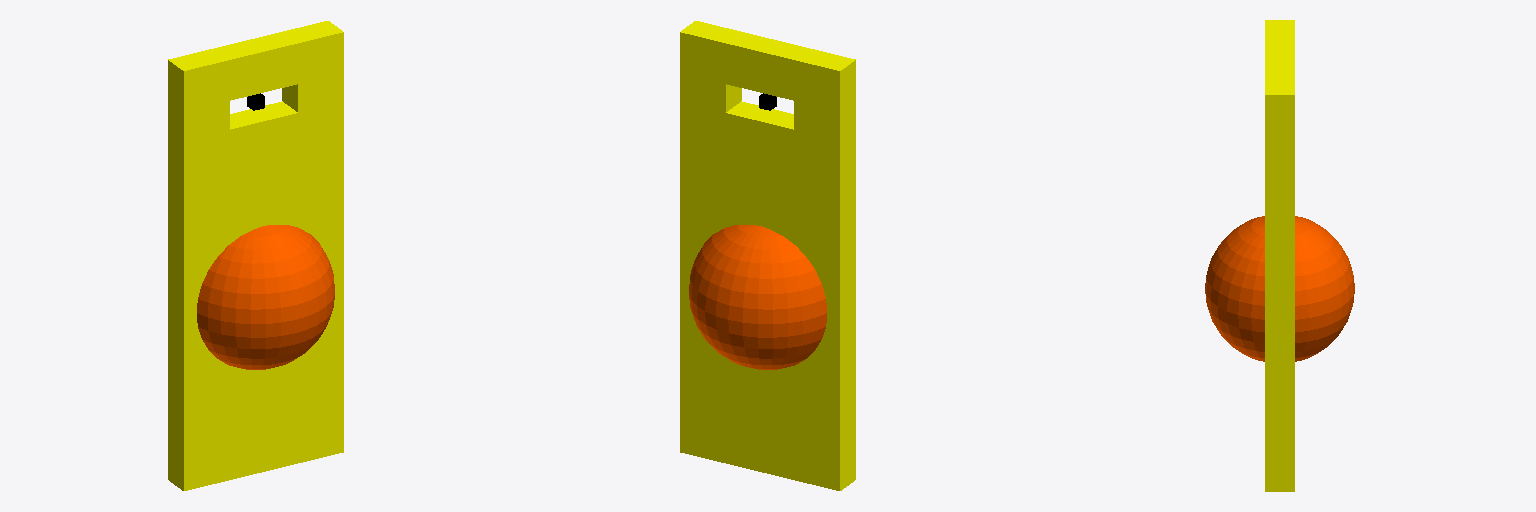
robot.urdf — box_dummy:
<?xml version="1.0"?>
<robot name="box_dummy">
  <material name="black">
    <color rgba="0.0 0.0 0.0 1.0"/>
  </material>
  <material name="orange">
    <color rgba="1.0 0.4 0.0 1.0"/>
  </material>
  <material name="transparency">
    <color rgba="0 0 0 0"/>
  </material>
  
  
  
  <!-- set base pose -->
  <link name="_base">
    <visual>
        <geometry>
            <sphere radius="0.03"/>
        </geometry>
        <origin rpy="0 0 0" xyz="0 0 0"/>
        <material name="orange"/>
    </visual>
  </link>

  <joint name="base_point" type="fixed">
    <origin rpy="0 0 0" xyz="0 0 0"/>
    <parent link="_base"/>
    <child link="base"/>
  </joint>





  <link name="base">
    <visual>
        <geometry>
            <box size="0.07 0.012 0.1460"/>
        </geometry>
        <origin rpy="0 0 0" xyz="0 0 0"/>
        <material name="yellow">
            <color rgba="1 1 0 1"/>
        </material>
    </visual>
    <collision>
        <geometry>
          <box size="0.07 0.012 0.1460"/>
        </geometry>
        <origin rpy="0 0 0" xyz="0 0 0"/>
    </collision>
    <inertial>
      <origin rpy="0 0 0" xyz="0 0 0"/>
       <mass value="0.01"/>
       <inertia ixx="1" ixy="0" ixz="0" iyy="1" iyz="0" izz="1"/>     
    </inertial>
    <surface>
        <friction>
          <ode>
            <mu>100000.0</mu>
            <mu2>100000.0</mu2>
          </ode>
        </friction>
        <contact>
          <ode>
            <min_depth>0.003</min_depth>
          </ode>
        </contact>
      </surface>
  </link>
  <!-- gripper contact point -->
  <link name="tool">
    <inertial>
      <mass value="0.0"/>
      <origin rpy="0 0 0" xyz="0.0 0.0 0.0"/>
      <inertia ixx="0.0" ixy="0.0" ixz="0.0" iyy="0.0" iyz="0.0" izz="0.0"/>
    </inertial>
    <visual>
      <geometry>
        <box size="0.005 0.005 0.005"/>
      </geometry>
      <origin rpy="0 0 0" xyz="0 0 0"/>
       <!-- set contact point color -->
      <material name="transparency"/>
    </visual>
  </link>
  <!-- set gripper contact point -->
  <joint name="hole_point" type="fixed">
    <!-- origin rpy="0 0 0" xyz="0 -0.3 -0.0165" -->
    <origin rpy="0 0 0" xyz="0 0 0.079"/>
    <parent link="base"/>
    <child link="tool"/>
  </joint>

  <link name="left_fillar">
   <visual>
        <geometry>
            <box size="0.02 0.012 0.012"/>
        </geometry>
        <origin rpy="0 0 0" xyz="0.025 0 0.079"/>
        <material name="yellow">
            <color rgba="1 1 0 1"/>
        </material>
    </visual>
    <collision>
        <geometry>
          <box size="0.02 0.012 0.012"/>
        </geometry>
        <origin rpy="0 0 0" xyz="0.025 0 0.079"/>
    </collision>
    <inertial>
      <origin rpy="0 0 0" xyz="0 0 0"/>
       <mass value="0.01"/>
       <inertia ixx="1" ixy="0" ixz="0" iyy="1" iyz="0" izz="1"/>       
    </inertial>
    <surface>
        <friction>
          <ode>
            <mu>100000.0</mu>
            <mu2>100000.0</mu2>
          </ode>
        </friction>
        <contact>
          <ode>
            <min_depth>0.003</min_depth>
          </ode>
        </contact>
      </surface>
  </link>

  

  <joint name="base_to_left_fillar" type="fixed">
    <parent link="base"/>
    <child link="left_fillar"/>
  </joint>

  <link name="right_fillar">
   <visual>
        <geometry>
            <box size="0.02 0.012 0.012"/>
        </geometry>
        <origin rpy="0 0 0" xyz="-0.025 0 0.079"/>
        <material name="yellow">
            <color rgba="1 1 0 1"/>
        </material>
    </visual>
    <collision>
        <geometry>
          <box size="0.02 0.012 0.012"/>
        </geometry>
        <origin rpy="0 0 0" xyz="-0.025 0 0.079"/>
    </collision>
    <inertial>
      <origin rpy="0 0 0" xyz="0 0 0"/>
       <mass value="0.01"/>
       <inertia ixx="1" ixy="0" ixz="0" iyy="1" iyz="0" izz="1"/>       
    </inertial>
    <surface>
        <friction>
          <ode>
            <mu>100000.0</mu>
            <mu2>100000.0</mu2>
          </ode>
        </friction>
        <contact>
          <ode>
            <min_depth>0.003</min_depth>
          </ode>
        </contact>
      </surface>
  </link>

  <joint name="base_to_right_fillar" type="fixed">
    <parent link="base"/>
    <child link="right_fillar"/>
  </joint>

  <link name="top_fillar">
   <visual>
        <geometry>
            <box size="0.07 0.012 0.017"/>
        </geometry>
        <origin rpy="0 0 0" xyz="0 0 0.0935"/>
        <material name="yellow">
            <color rgba="1 1 0 1"/>
        </material>
    </visual>
    <collision>
        <geometry>
         <box size="0.07 0.012 0.017"/>
        </geometry>
        <origin rpy="0 0 0" xyz="0 0 0.0935"/>
    </collision>
    <inertial>
      <origin rpy="0 0 0" xyz="0 0 0"/>
       <mass value="0.01"/>
       <inertia ixx="1" ixy="0" ixz="0" iyy="1" iyz="0" izz="1"/>     
    </inertial>
    <surface>
        <friction>
          <ode>
            <mu>100000.0</mu>
            <mu2>100000.0</mu2>
          </ode>
        </friction>
        <contact>
          <ode>
            <min_depth>0.003</min_depth>
          </ode>
        </contact>
      </surface>
  </link>

  <joint name="base_to_top_fillar" type="fixed">
    <parent link="base"/>
    <child link="top_fillar"/>
  </joint>

</robot>

--- What the picture shows (computed from the rendered views, not written in the file) ---
The picture shows the robot from 3 angles, left to right: view 1: azimuth 30°, elevation 25°; view 2: azimuth 150°, elevation 25°; view 3: azimuth 270°, elevation 25°; orthographic projection.
Robot: box_dummy — 6 links, 5 joints (5 fixed); root link _base; default pose: all joints at 0.
Visible links, largest first — view 1: base, _base, top_fillar, right_fillar, left_fillar; view 2: base, _base, top_fillar, right_fillar, left_fillar; view 3: _base, base, top_fillar, left_fillar.
Boxes of the visible links, x1,y1,x2,y2 form: base: [168, 101, 343, 490]; _base: [197, 225, 334, 369]; top_fillar: [168, 21, 343, 111]; right_fillar: [168, 101, 229, 140]; left_fillar: [282, 73, 343, 112]; base: [680, 101, 855, 490]; _base: [689, 225, 826, 369]; top_fillar: [680, 21, 855, 111]; right_fillar: [794, 101, 855, 140]; left_fillar: [680, 73, 741, 112]; _base: [1205, 216, 1354, 361]; base: [1265, 160, 1294, 491]; top_fillar: [1265, 20, 1294, 132]; left_fillar: [1265, 133, 1294, 159].
Size in the robot's own frame: 0.07 by 0.06 by 0.175 metres.
Geometry: primitives only (box / cylinder / sphere), no mesh files.